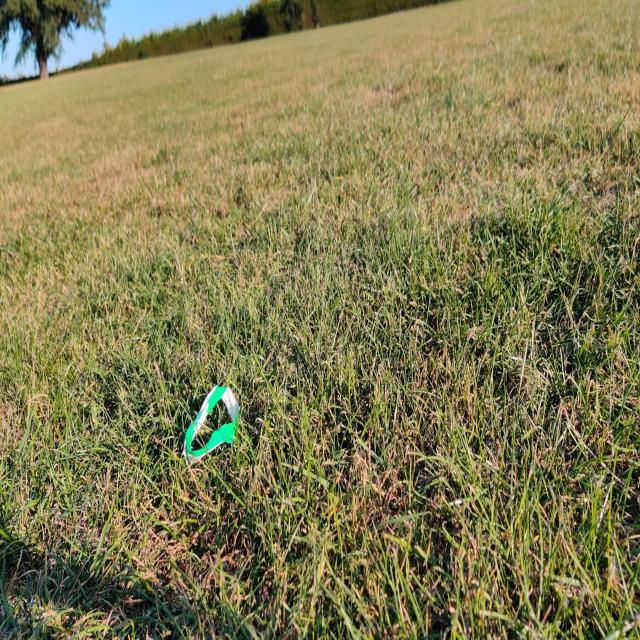litter: (183, 386, 240, 460)
